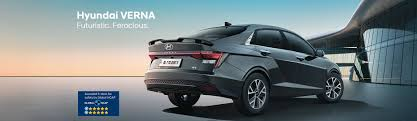car: (141, 27, 346, 115)
